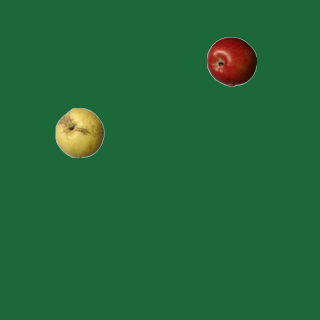Apple Braeburn: (206, 36, 256, 86)
Apple Golden 1: (54, 107, 104, 157)
